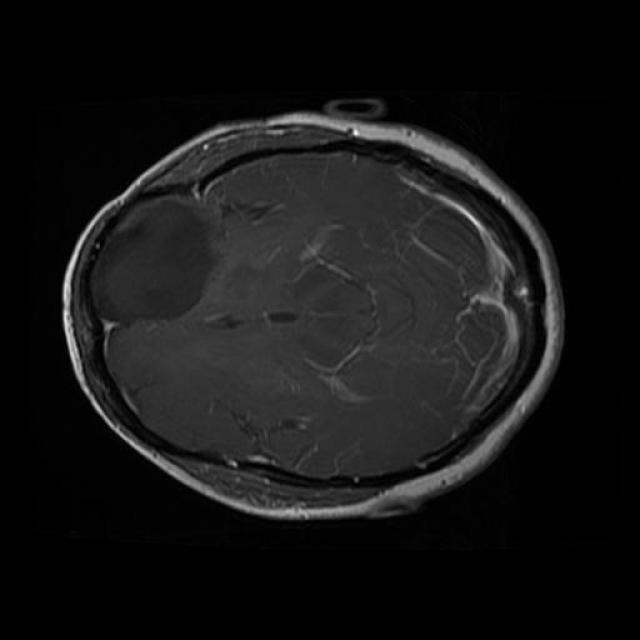Glioma: (90, 199, 216, 327)
